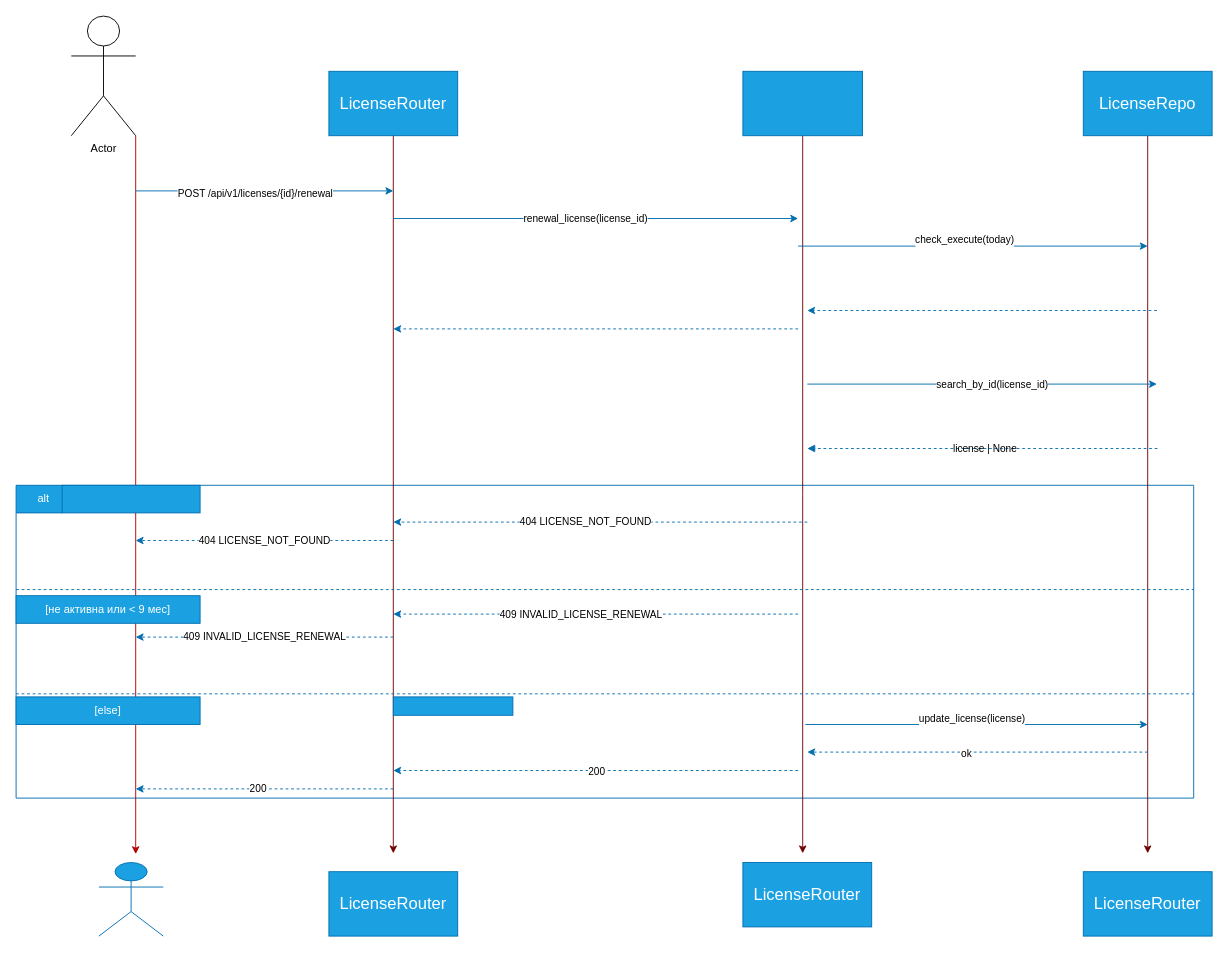
Some shapes in this 1228 by 972 pixel diagram are drawn without their labels. Each missing label, with the box of its shape:
[не найдено(None)]: (61, 484, 200, 513)
LicenseService: (742, 70, 862, 136)
valid_until += 1 years: (392, 696, 513, 715)
